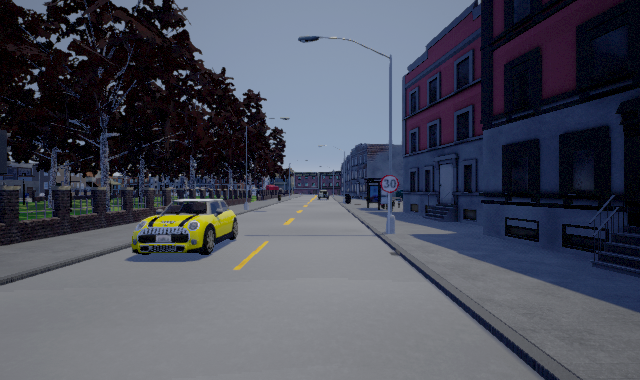traffic_sign: (380, 175, 399, 193)
vehicle: (131, 199, 238, 255), (318, 188, 328, 201)
